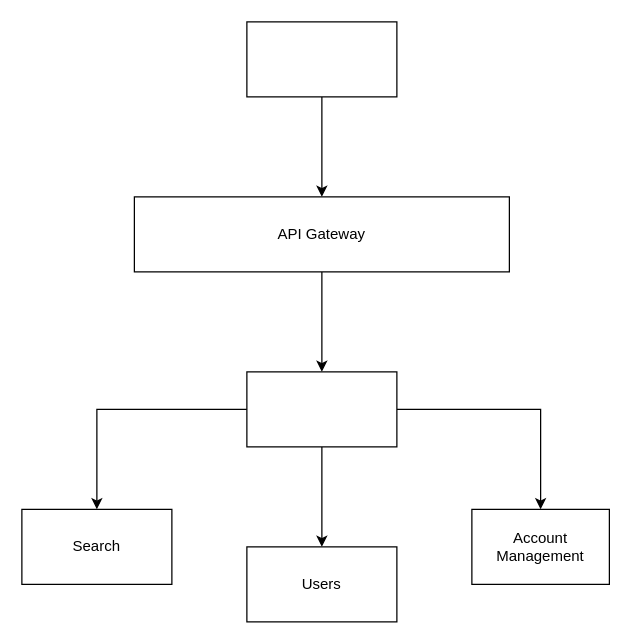
This 631x644 diagram has some shape labels left out. Each missing label, with the box of its shape:
Client App: (246, 21, 397, 97)
Eureka :8090: (246, 371, 397, 447)
